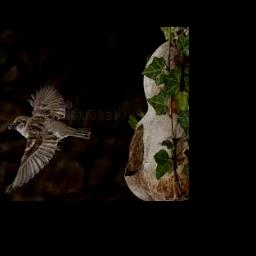Sparrow: (3, 84, 92, 194)
